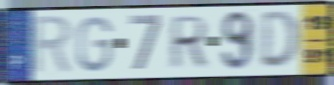7: (127, 12, 165, 74)
9: (219, 8, 257, 73)
D: (258, 9, 302, 72)
G: (75, 15, 115, 75)
R: (29, 13, 76, 78), (167, 14, 211, 72)
